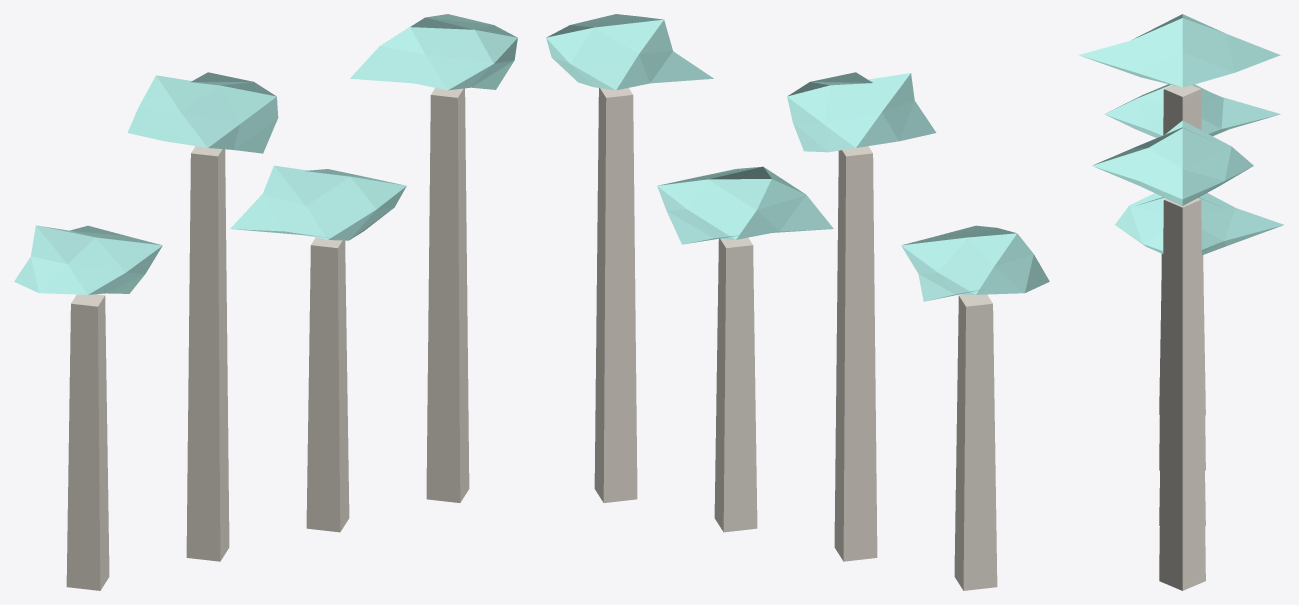
File: glowcap_v20.glb
The picture shows the model from 3 angles, left to right: view 1: azimuth 30°, elevation 25°; view 2: azimuth 150°, elevation 25°; view 3: azimuth 270°, elevation 25°; orthographic projection. The views are drawn at different scales.
Parts seen in each view (by area): view 1: lod0; view 2: lod0; view 3: lod0.
Part boxes in pixels (box(x1,y1,x2,y2)): lod0: box(14, 14, 517, 590); lod0: box(546, 14, 1049, 590); lod0: box(1078, 14, 1283, 590).
Size of what is drawn, in the model's own units: 0.5881 by 0.5358 by 0.2206.
